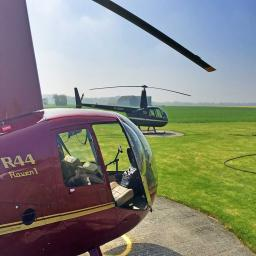helicopter: (1, 1, 217, 255), (72, 85, 192, 139)
